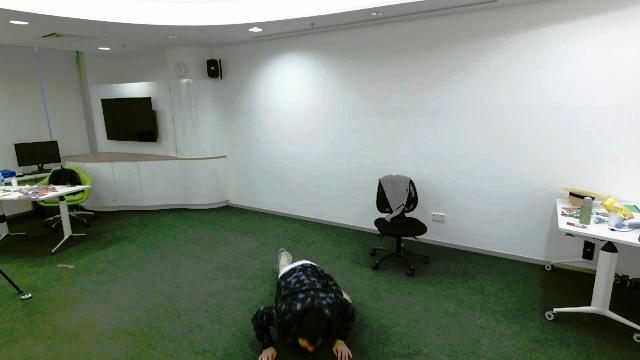jatuh: (240, 241, 370, 360)
